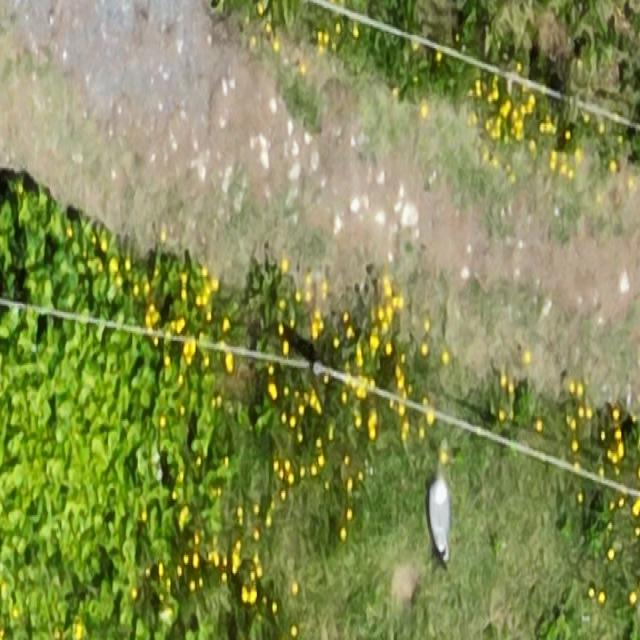umineko: (430, 472, 451, 561)
